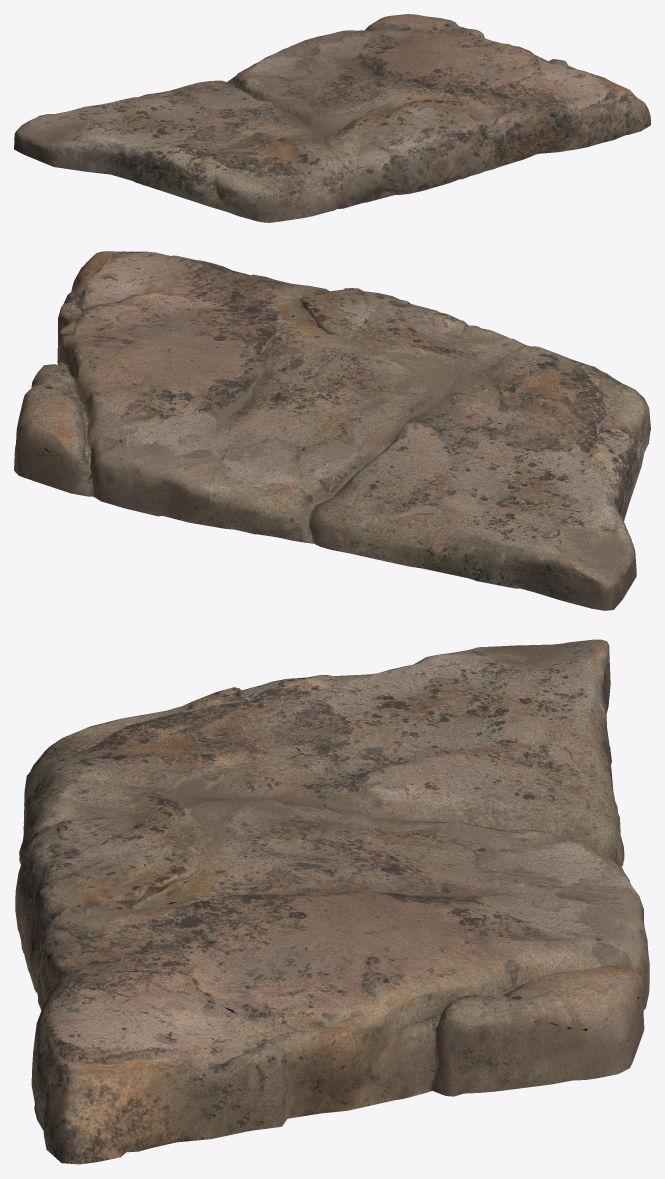
The model's file is SM_wgqteir_tier_2.gltf.
The picture shows the model from 3 angles, top to bottom: view 1: azimuth 30°, elevation 25°; view 2: azimuth 150°, elevation 25°; view 3: azimuth 270°, elevation 25°; orthographic projection. The views are drawn at different scales.
Visible parts, largest first — view 1: wgqteir_LOD2_TIER2_000; view 2: wgqteir_LOD2_TIER2_000; view 3: wgqteir_LOD2_TIER2_000.
Part boxes in pixels (x1,y1,x2,y2): wgqteir_LOD2_TIER2_000: [14, 14, 650, 222]; wgqteir_LOD2_TIER2_000: [14, 251, 650, 610]; wgqteir_LOD2_TIER2_000: [15, 639, 649, 1164].
Bounding box in the file's own units: 5.25 × 0.5175 × 2.86.
Materials: 1 (1 with a texture image).
